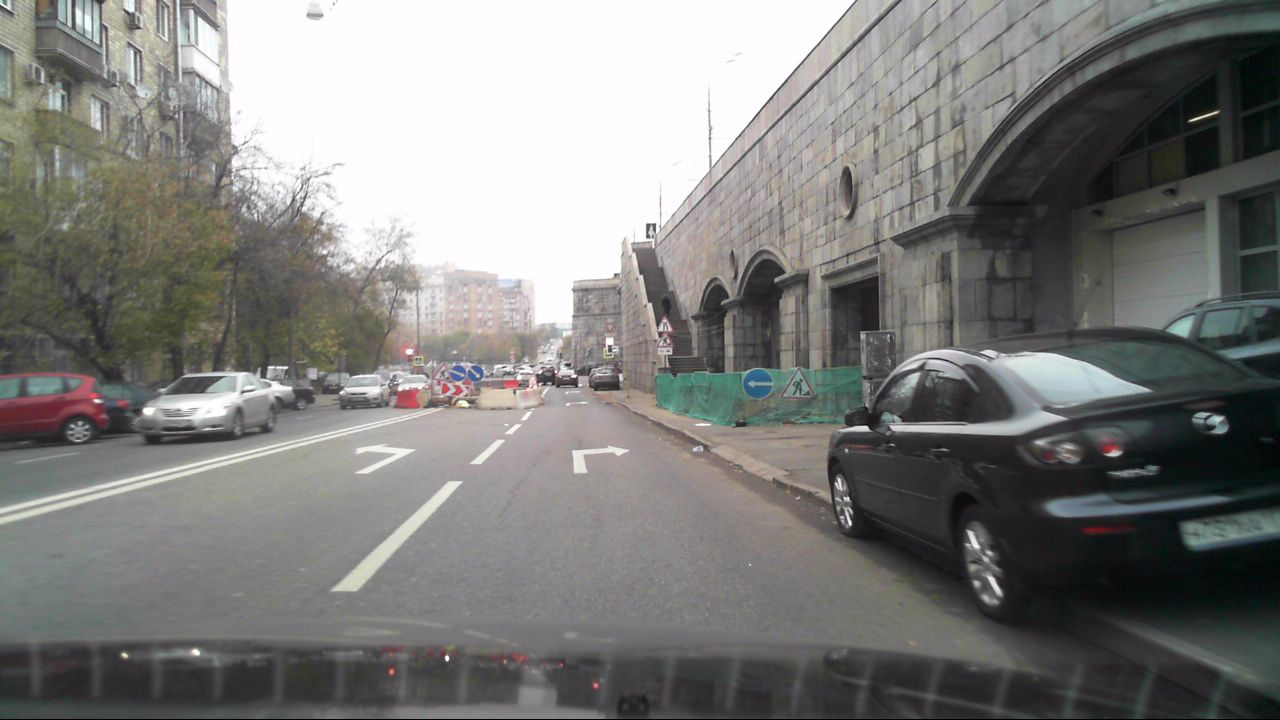Turn Left: (743, 368, 774, 399)
